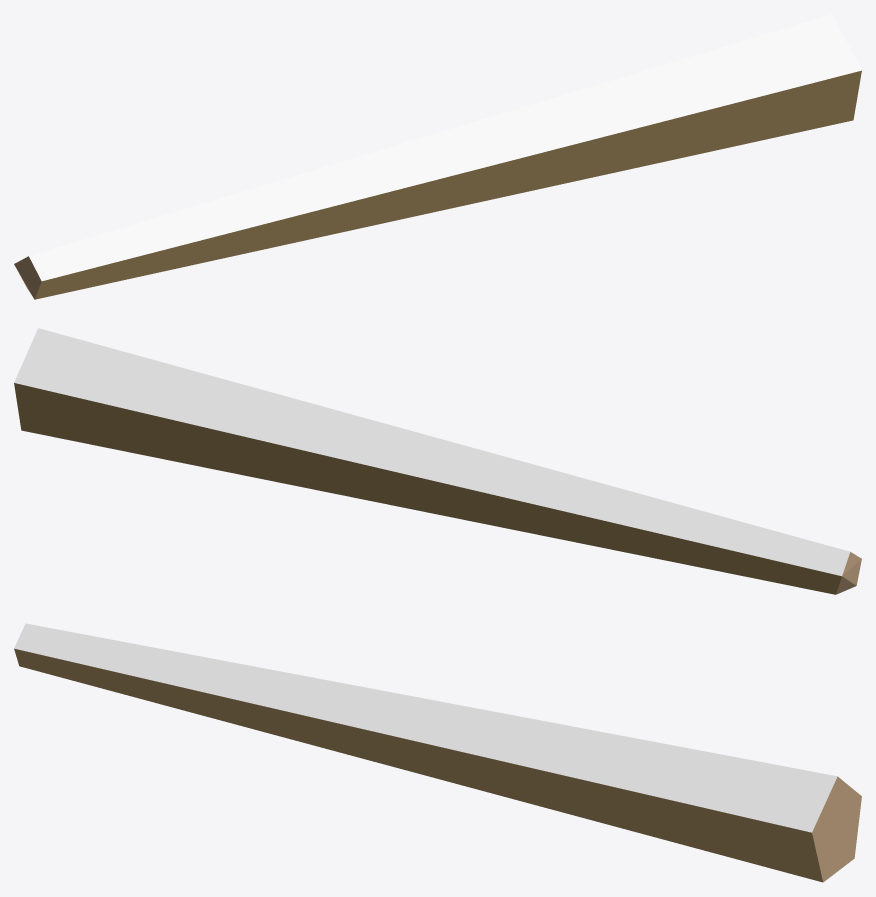
Rendered from Simple_Log_Snow_01.fbx.
3 renders of one model, top to bottom at view 1: azimuth 30°, elevation 25°; view 2: azimuth 150°, elevation 25°; view 3: azimuth 330°, elevation 25°, orthographic.
Visible parts, largest first — view 1: Simple_Log_Snow_01; view 2: Simple_Log_Snow_01; view 3: Simple_Log_Snow_01.
Part boxes in pixels (<box>): Simple_Log_Snow_01: <box>14,14,861,299</box>; Simple_Log_Snow_01: <box>14,328,861,594</box>; Simple_Log_Snow_01: <box>14,623,861,882</box>.
Size of the model in its own units: 259 by 28.36 by 28.56.
